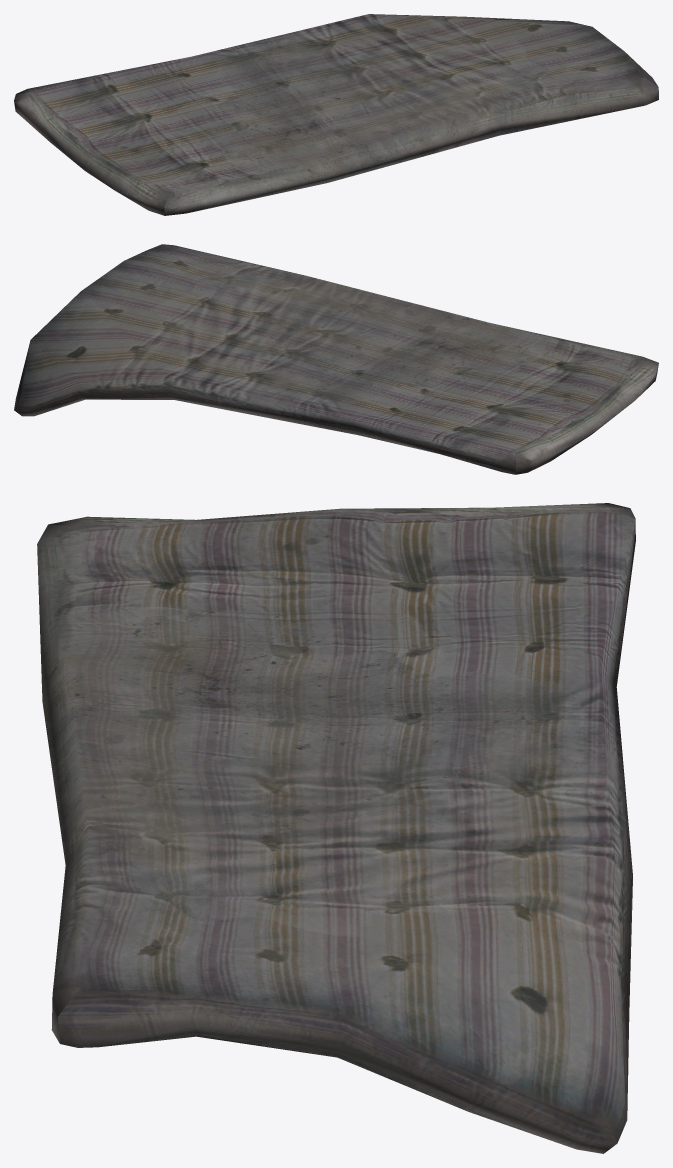
Rendered from mattress_03.FBX.
3 renders of one model, top to bottom at view 1: azimuth 30°, elevation 25°; view 2: azimuth 150°, elevation 25°; view 3: azimuth 270°, elevation 25°, orthographic. The views are drawn at different scales.
Parts seen in each view (by area): view 1: mattres_s; view 2: mattres_s; view 3: mattres_s.
Part boxes in pixels (x1,y1,x2,y2): mattres_s: (14,14,658,215); mattres_s: (14,244,658,474); mattres_s: (37,503,635,1153).
Size of the model in its own units: 2.26 by 0.3399 by 1.1.
